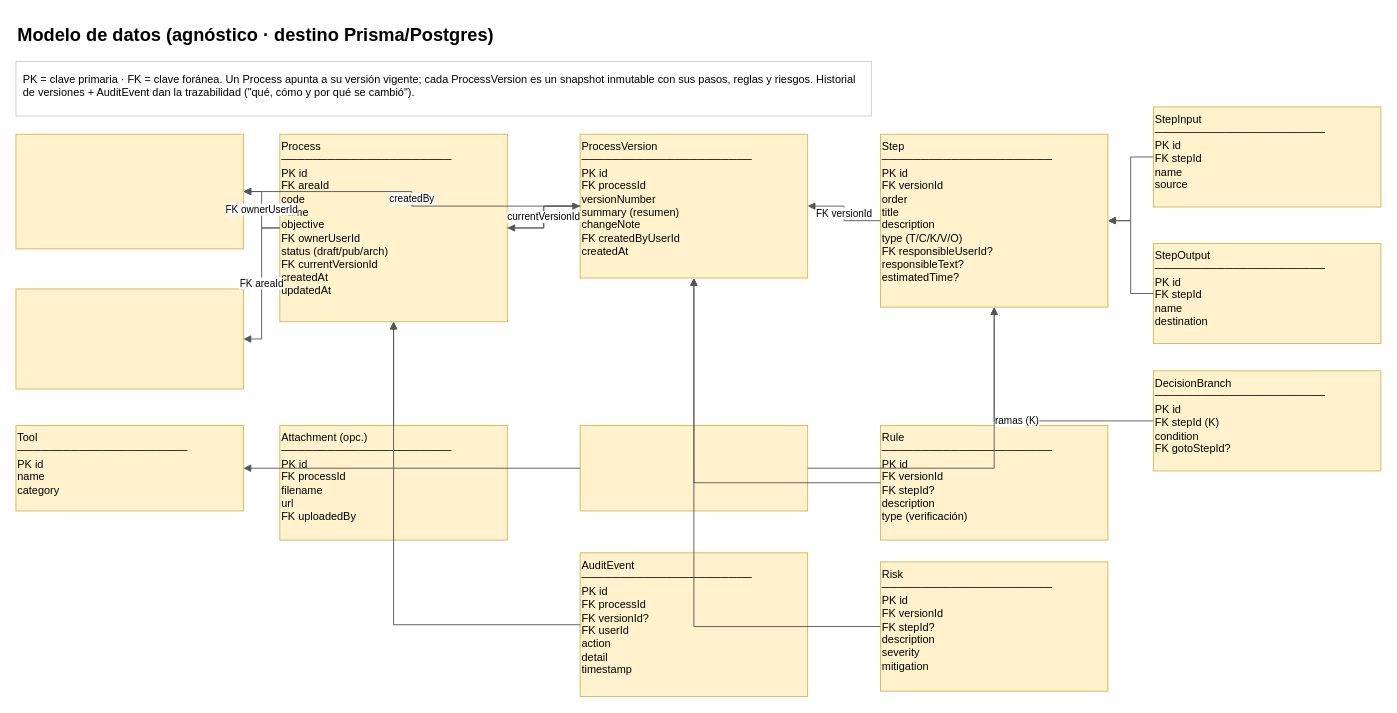
Image size: 1397x713. Some labels were removed from this diagram. The box of each missing label's shape, as (x1, y1, x2, y2) in pixels:
Area ────────────────────── PK id name slug description: (15, 288, 243, 389)
StepTool ────────────────────── PK id FK stepId FK toolId: (579, 425, 808, 511)
User ────────────────────── PK id email name azureOid role (admin/editor/viewer): (15, 133, 243, 249)
